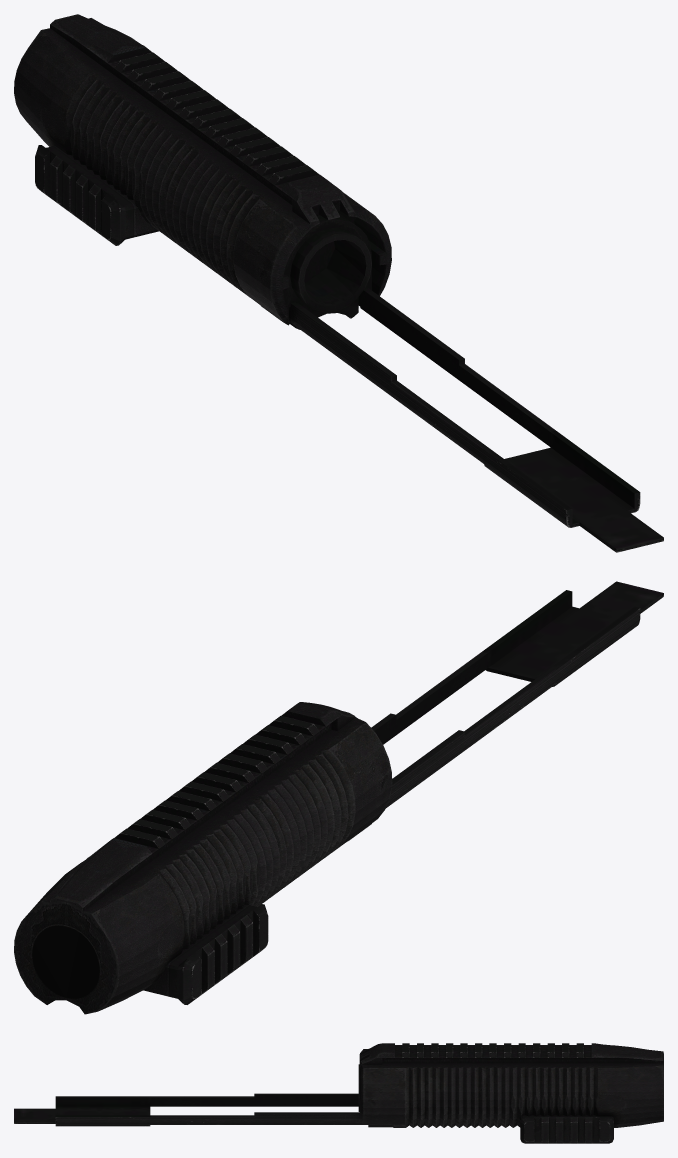
The picture shows the model from 3 angles, top to bottom: view 1: azimuth 30°, elevation 25°; view 2: azimuth 150°, elevation 25°; view 3: azimuth 270°, elevation 25°; orthographic projection. The views are drawn at different scales.
Visible parts, largest first — view 1: TW_55d45f484bdc2d972f8b456d_PZ_Import; view 2: TW_55d45f484bdc2d972f8b456d_PZ_Import; view 3: TW_55d45f484bdc2d972f8b456d_PZ_Import.
Part boxes in pixels (box(x1,y1,x2,y2)): TW_55d45f484bdc2d972f8b456d_PZ_Import: box(14, 14, 663, 552); TW_55d45f484bdc2d972f8b456d_PZ_Import: box(14, 581, 663, 1014); TW_55d45f484bdc2d972f8b456d_PZ_Import: box(14, 1043, 663, 1143).
Size of the model in its own units: 0.0345 by 0.2176 by 0.028.
Materials: 1 (1 with a texture image).
